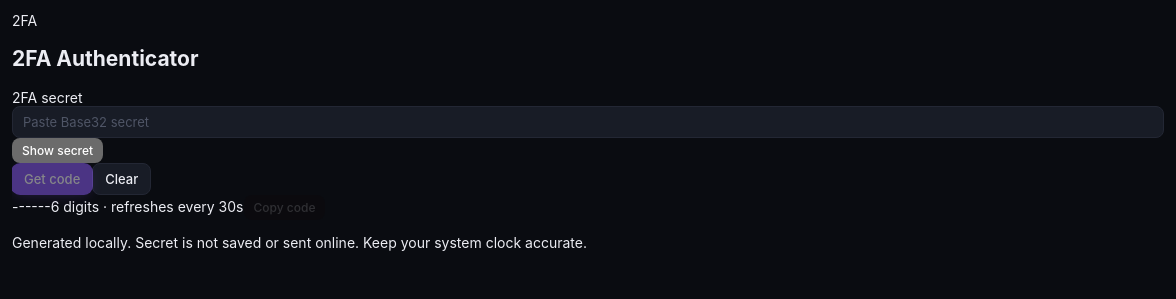
Scenario: reports clipboard failure without exposing the backend error
Type "JBSWY3DPEHPK3PXP" into the password field labelled "2FA secret". click: (588, 122)
box: [12, 106, 1164, 138]
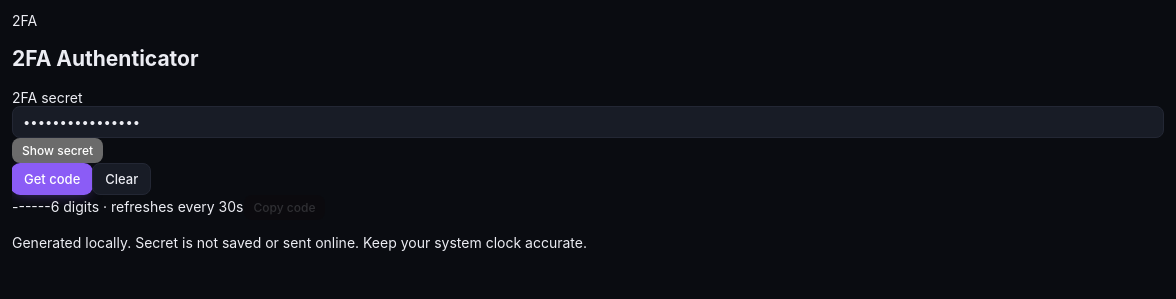
Click the button "Get code". click: (52, 179)
box: [12, 164, 92, 194]
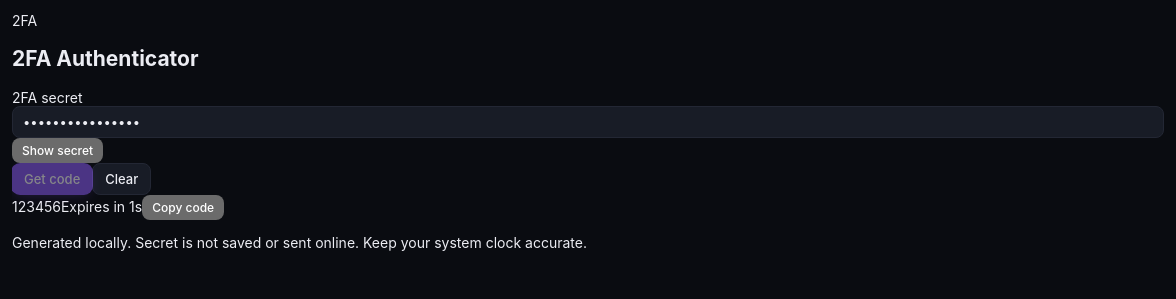
Click the button "Copy code". click: (183, 207)
box: [142, 195, 224, 220]
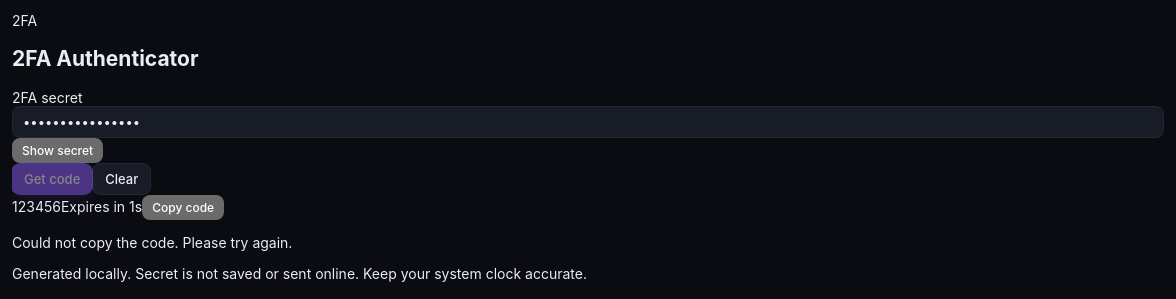
Expected: the message does not show "JBSWY3DPEHPK3PXP", [12, 234, 292, 251]
Result: the text "123456" is shown at [12, 198, 61, 215]
Result: the message shows "Could not copy the code." at [12, 234, 292, 251]
